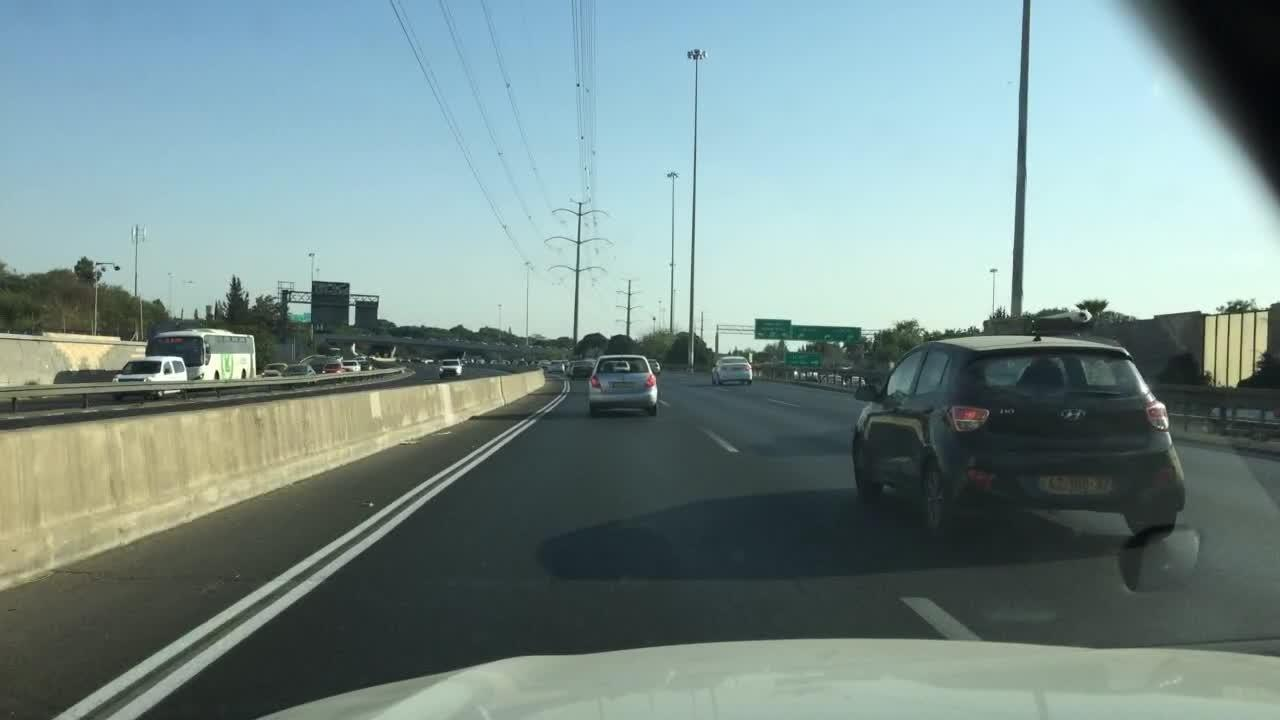Hyundai: (1055, 404, 1090, 427)
